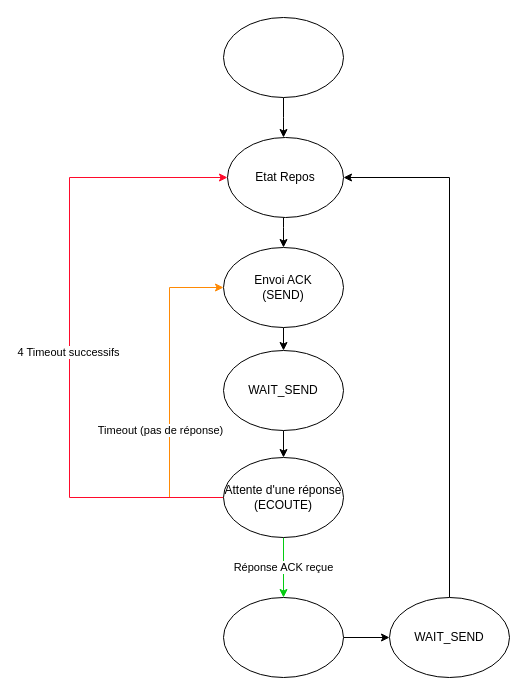
This 527x695 diagram has some shape labels left out. Here are the shapes that lost their labels. From the top down, the centre of each, then its label:
At (283,57): "Initialisation".
At (283,637): "Envoi des données (SEND)".
